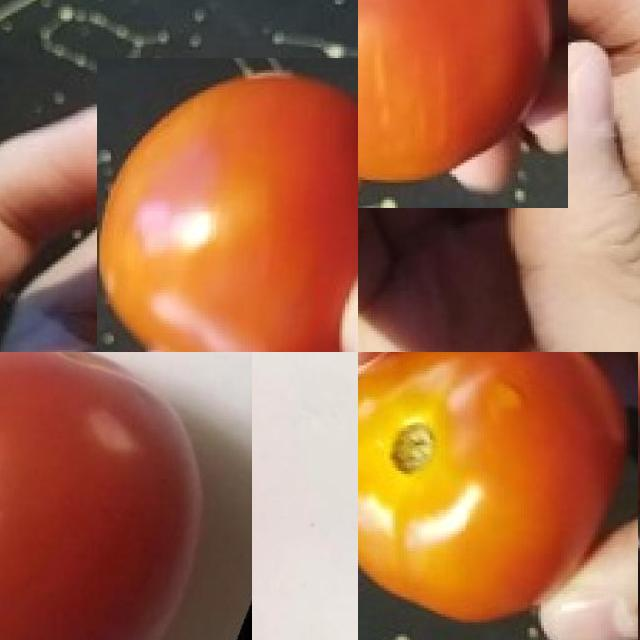0: (0, 352, 249, 640)
Fresh Tomato: (358, 352, 640, 640), (86, 68, 358, 352)
Rotten Tomato: (358, 0, 570, 206)
